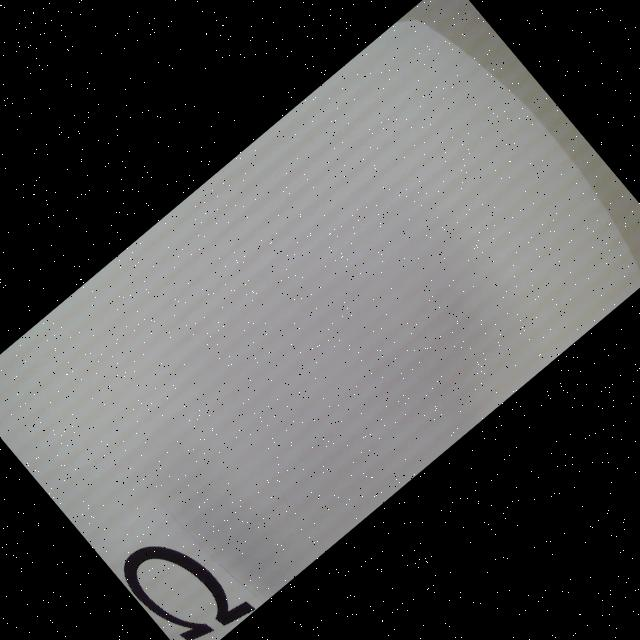OMEGA: (113, 514, 256, 640)
